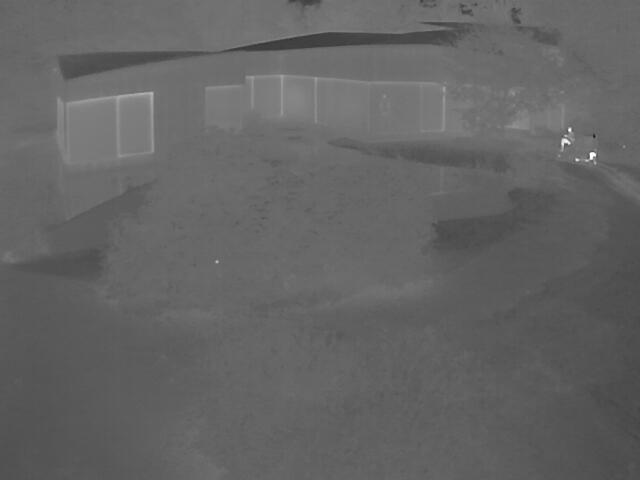person: (558, 126, 573, 151)
